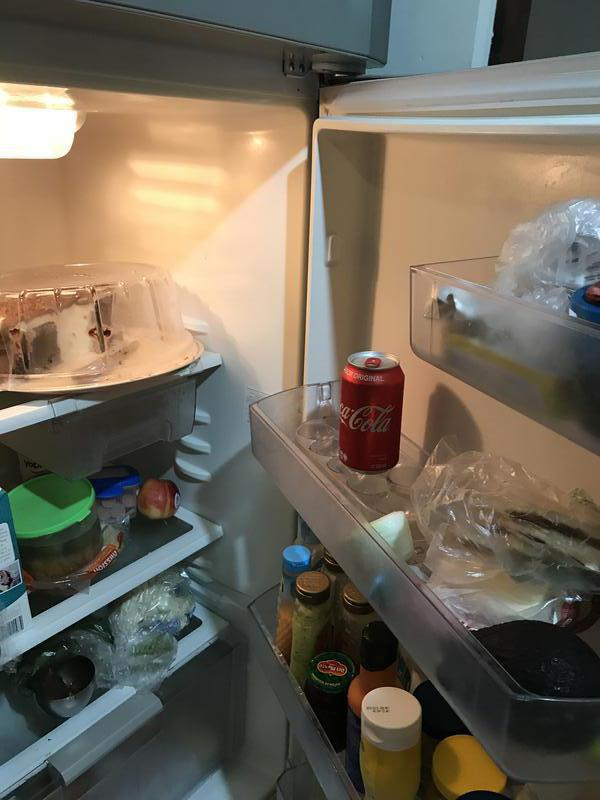coca_cola: (339, 350, 405, 473)
